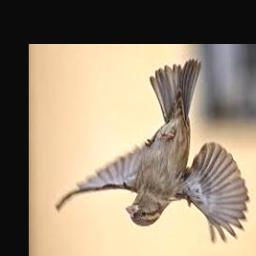Sparrow: (57, 60, 249, 244)
